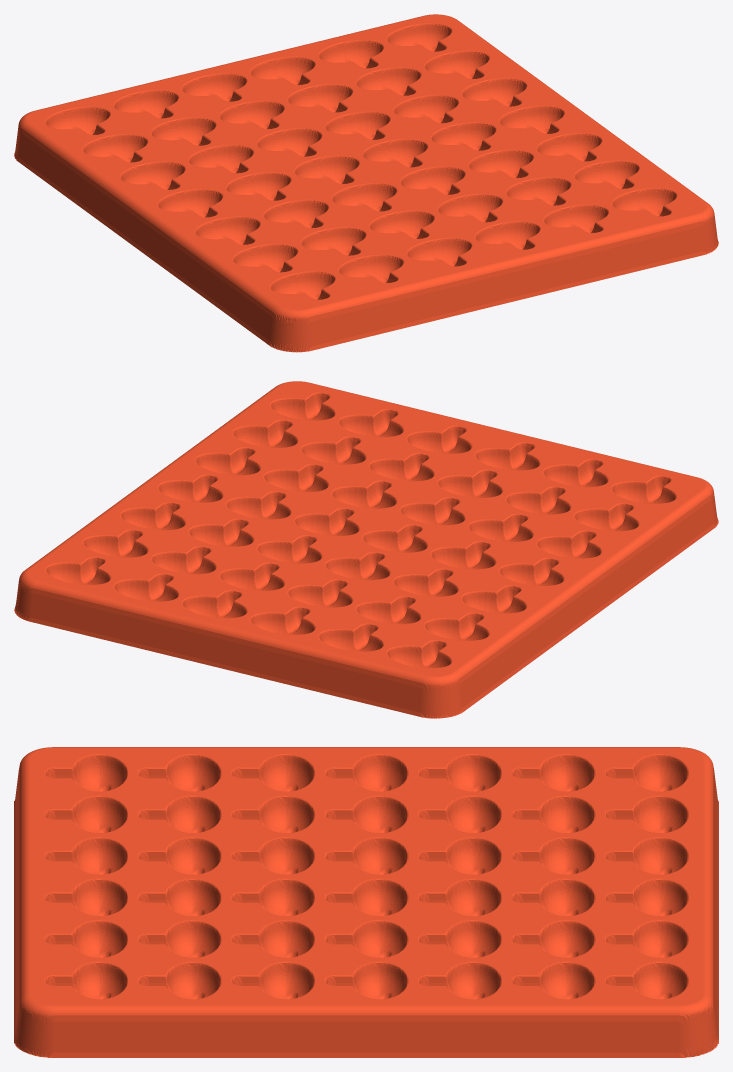
Rendered from mold.glb.
3 views of the same model, one above another, from view 1: azimuth 30°, elevation 25°; view 2: azimuth 150°, elevation 25°; view 3: azimuth 270°, elevation 25° (orthographic). The views are drawn at different scales.
Parts seen in each view (by area): view 1: geometry_0; view 2: geometry_0; view 3: geometry_0.
Boxes of the visible parts, bbox=[...] form: geometry_0: bbox=[14, 14, 718, 352]; geometry_0: bbox=[14, 381, 718, 718]; geometry_0: bbox=[14, 747, 718, 1057].
Bounding box in the file's own units: 0.1437 × 0.0113 × 0.1581.
